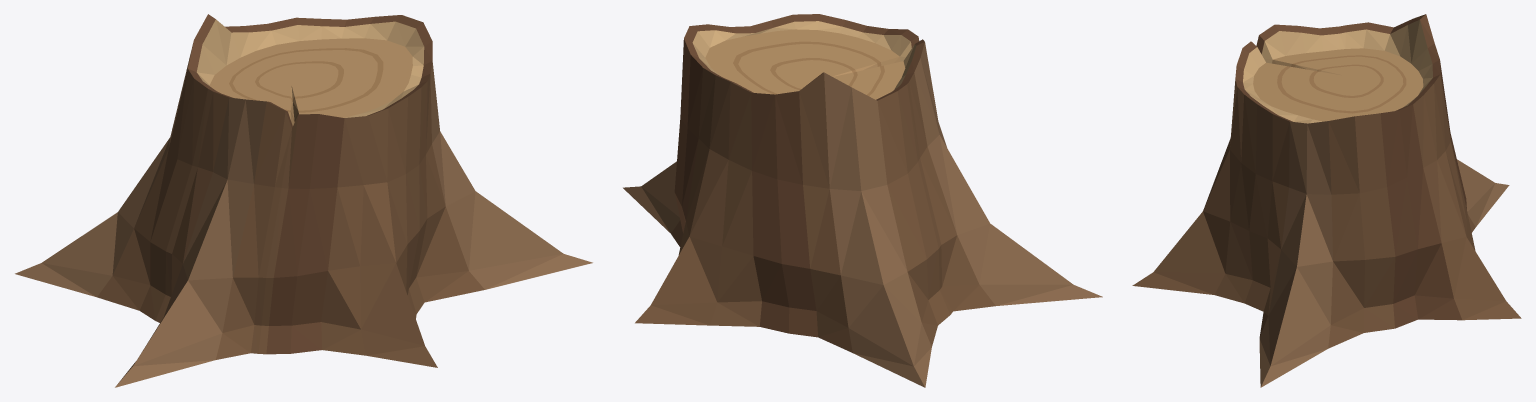
3 views of the same model, side by side, from view 1: azimuth 30°, elevation 25°; view 2: azimuth 150°, elevation 25°; view 3: azimuth 270°, elevation 25° (orthographic). The views are drawn at different scales.
Parts seen in each view (by area): view 1: Stump_ContinuousRootToBreak; view 2: Stump_ContinuousRootToBreak; view 3: Stump_ContinuousRootToBreak.
Part boxes in pixels (x1=…): Stump_ContinuousRootToBreak: x1=15, y1=14, x2=592, y2=387; Stump_ContinuousRootToBreak: x1=623, y1=14, x2=1102, y2=387; Stump_ContinuousRootToBreak: x1=1132, y1=14, x2=1521, y2=387.
Size of the model in its own units: 1.59 by 0.8003 by 1.18.
